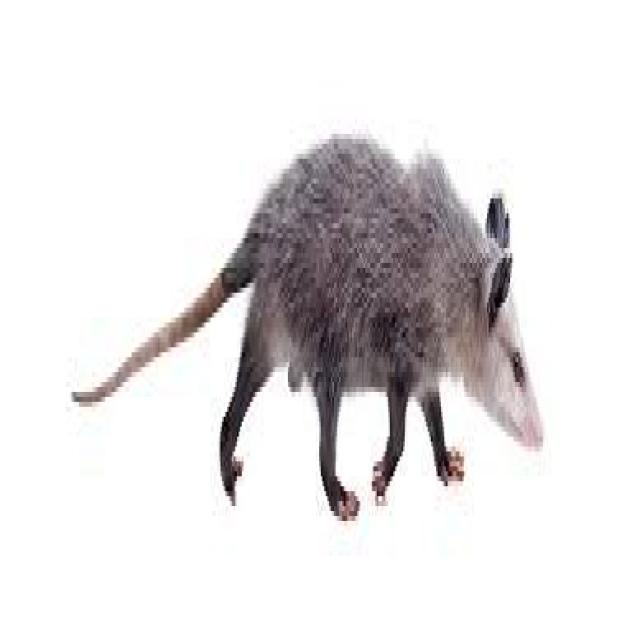Possum: (61, 110, 553, 538)
